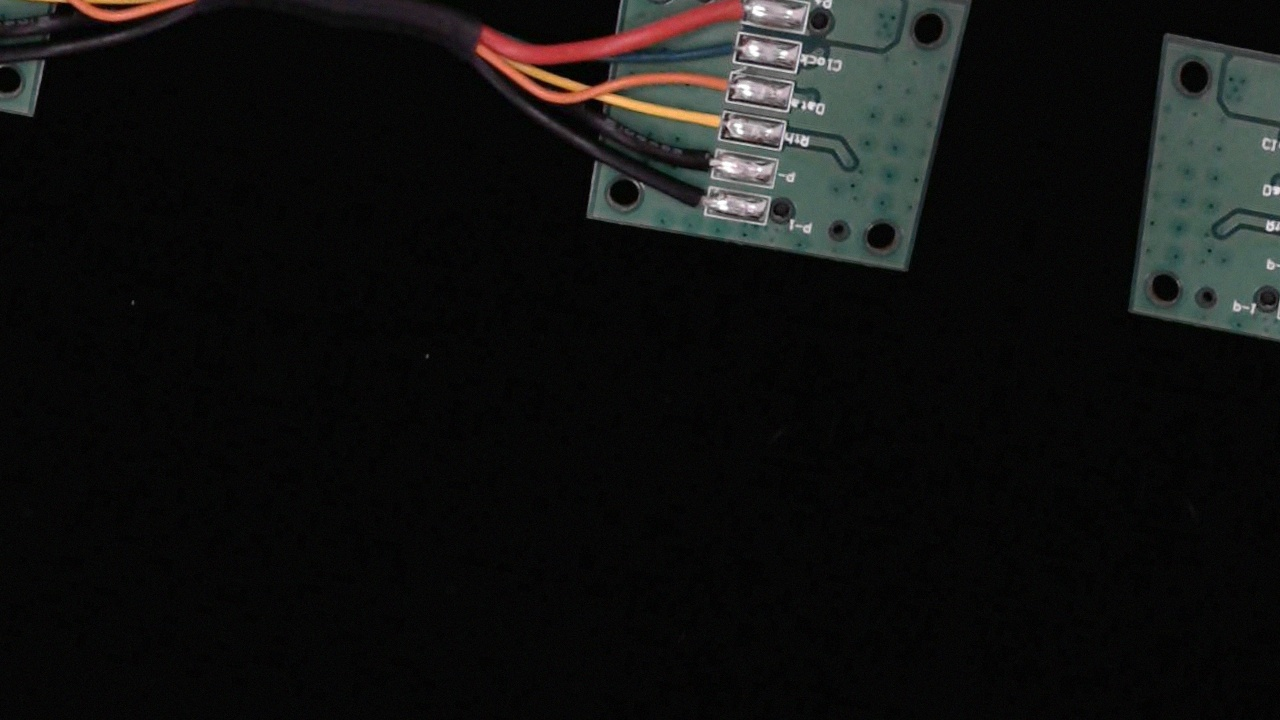Black: (659, 137, 737, 183)
Black1: (656, 177, 728, 221)
Green: (689, 23, 764, 69)
Orange: (676, 61, 752, 105)
Red: (692, 0, 767, 28)
Yellow: (664, 99, 743, 146)
